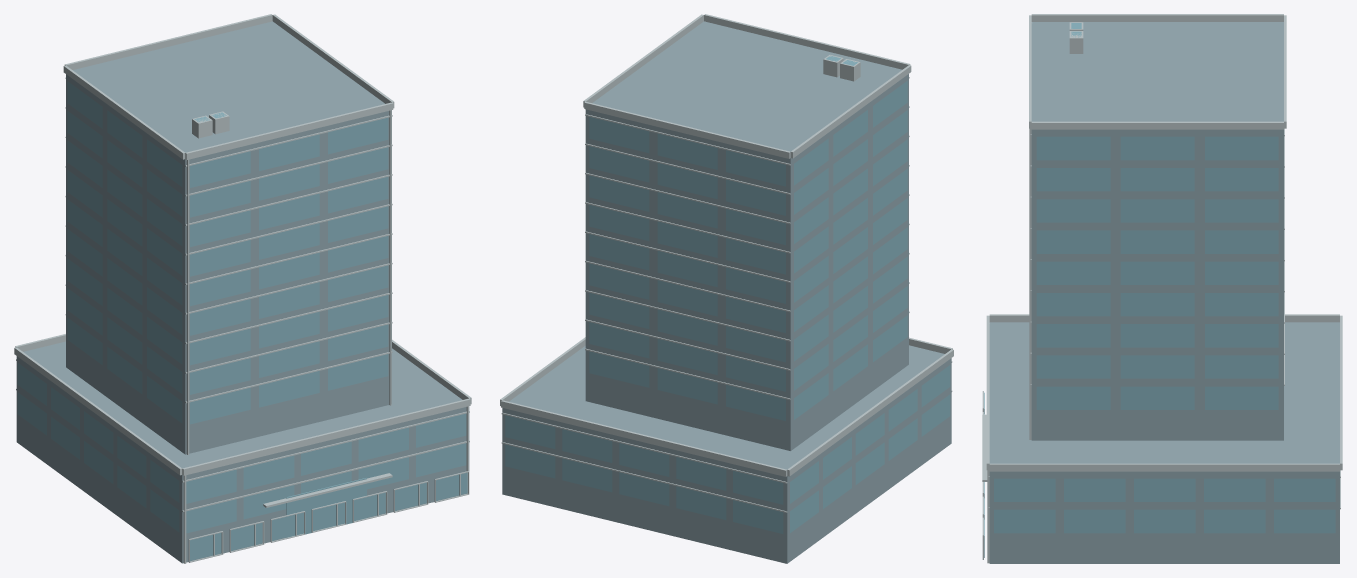
The model's file is commercial_4x4_b.glb.
3 views of the same model, side by side, from view 1: azimuth 30°, elevation 25°; view 2: azimuth 150°, elevation 25°; view 3: azimuth 270°, elevation 25° (orthographic). The views are drawn at different scales.
Visible parts, largest first — view 1: commercial_4x4_b_0; view 2: commercial_4x4_b_0; view 3: commercial_4x4_b_0.
Part boxes in pixels (box(x1,y1,x2,y2)): commercial_4x4_b_0: box(14, 14, 471, 563); commercial_4x4_b_0: box(500, 14, 953, 563); commercial_4x4_b_0: box(982, 14, 1342, 563).
Size of the model in its own units: 31 by 40.5 by 31.4.
